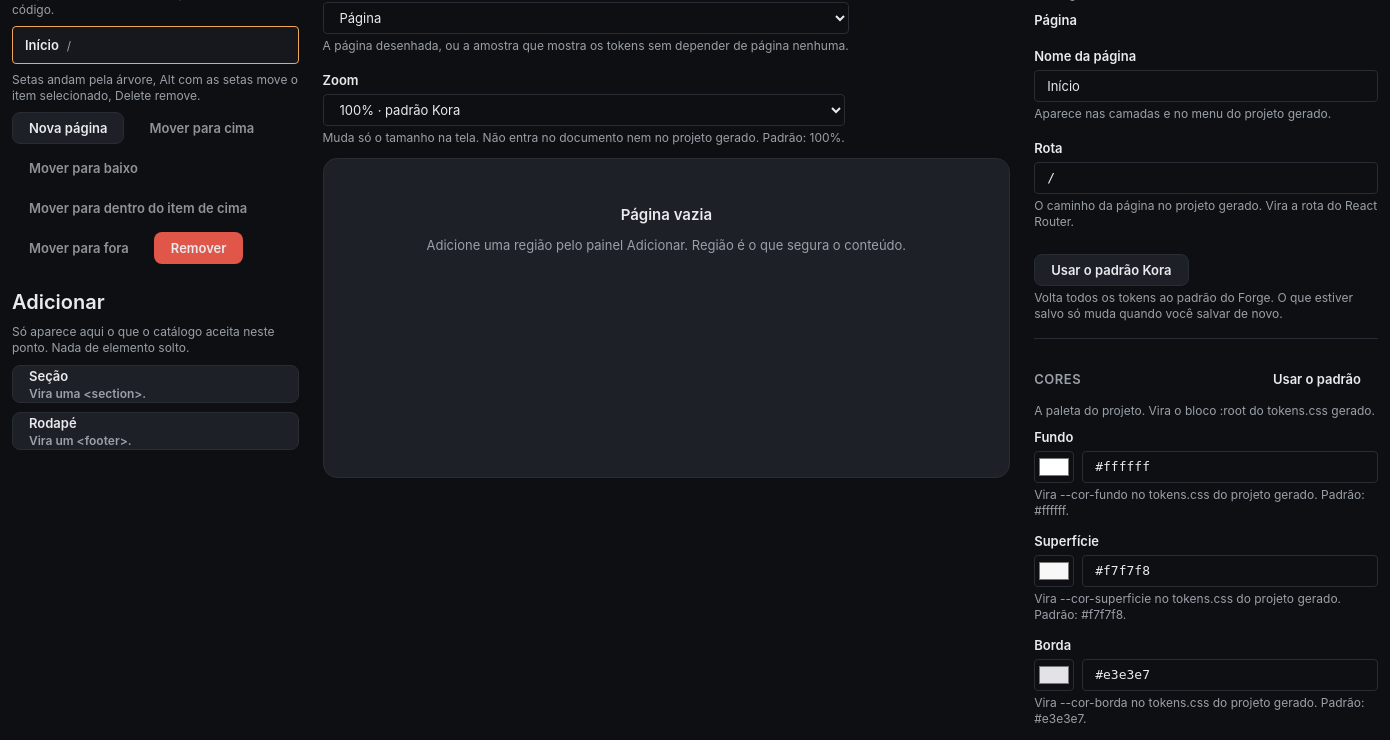
Test: desfazer e refazer › desfaz e refaz a última edição, e o botão diz qual é
(page scrolled)
Step 1. Click the button "Seção Vira uma <section>." → (49, 376), box x1=12 y1=365 x2=298 y2=403
(page scrolled)
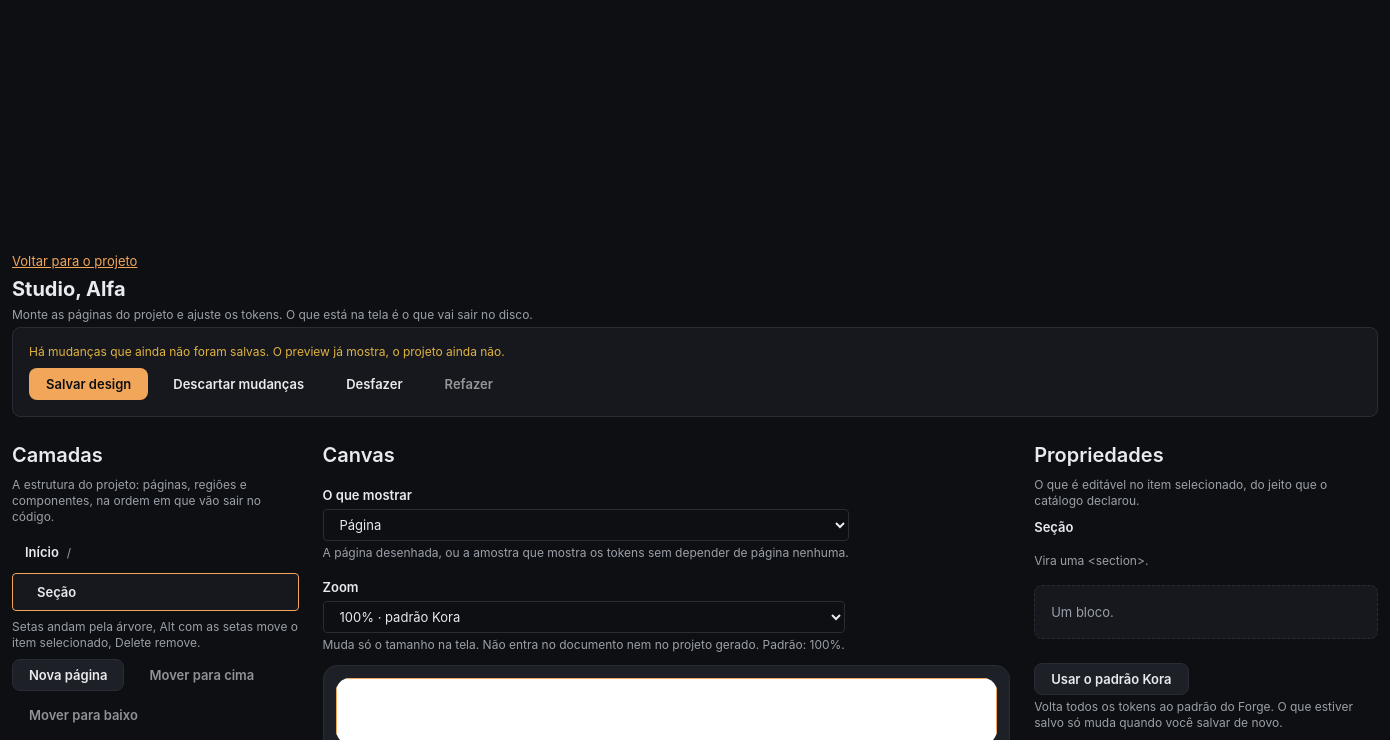
Expected: the list item "Seção" is shown, x1=12 y1=573 x2=298 y2=611
Step 2. Click the button "Desfazer" → (374, 384), box x1=329 y1=368 x2=420 y2=400
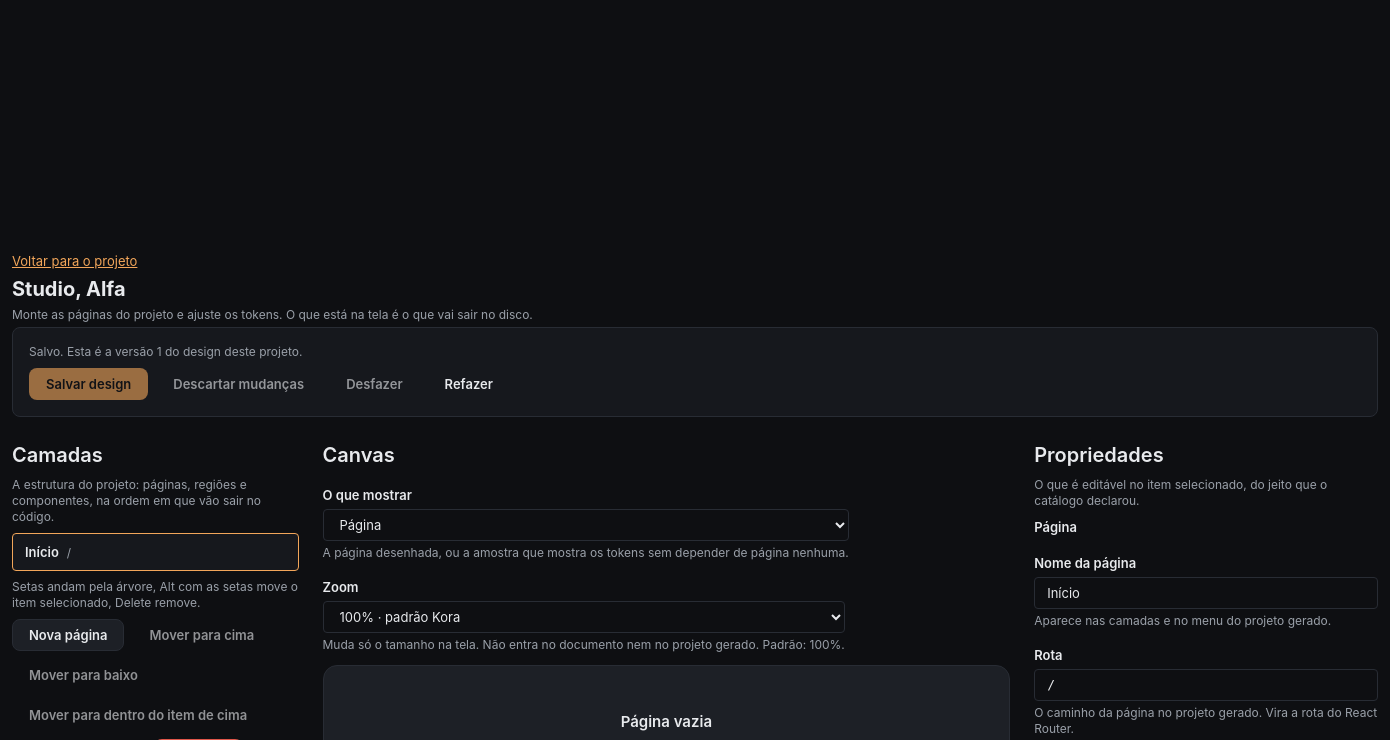
Expected: the list item "Seção" is not shown
Step 3. Click the button "Refazer" → (469, 384), box x1=428 y1=368 x2=510 y2=400
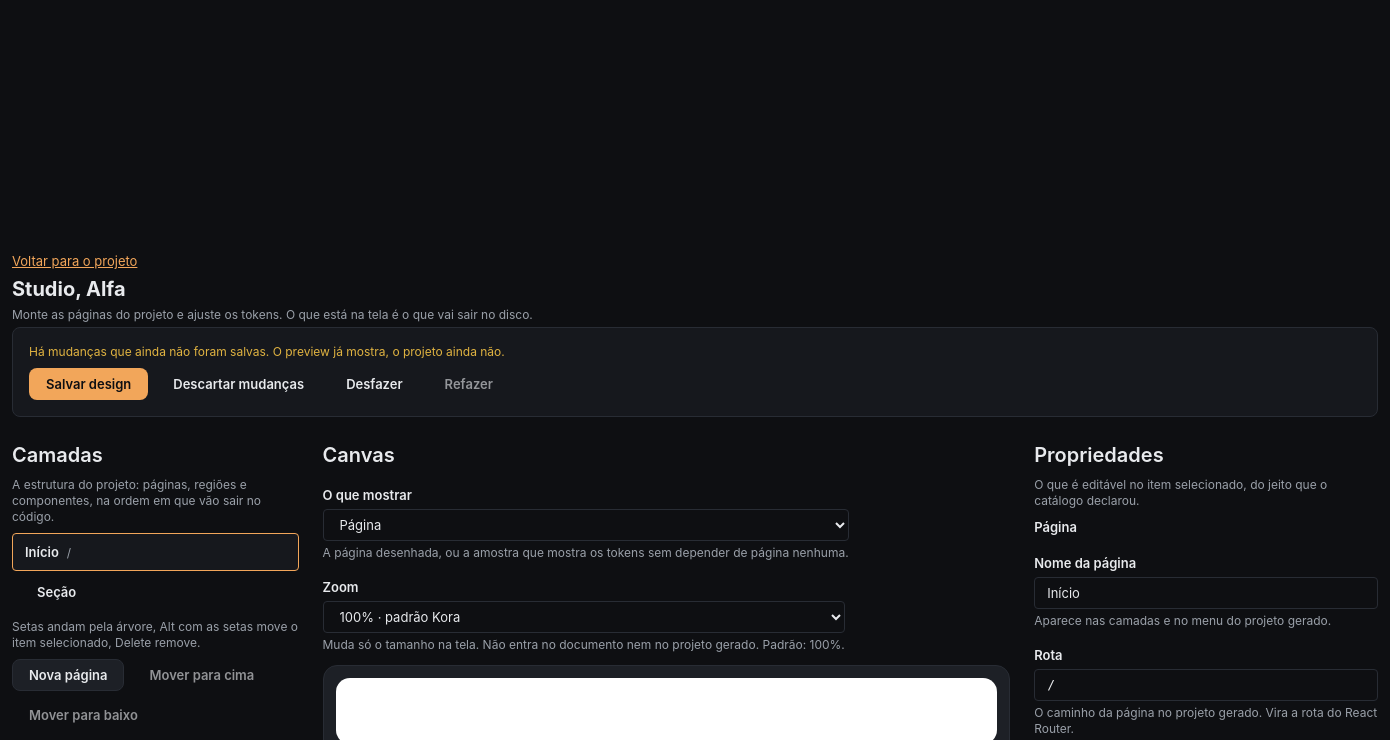
Expected: the list item "Seção" is shown, x1=37 y1=584 x2=76 y2=600
